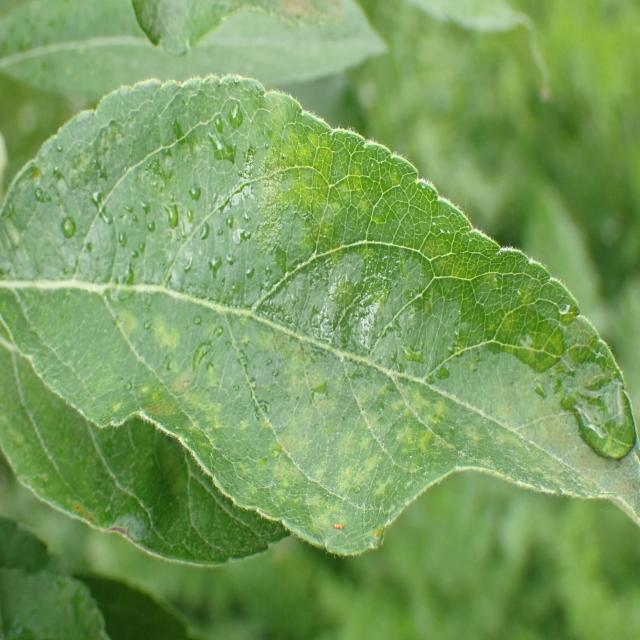scab: (26, 127, 639, 523), (159, 0, 376, 80)
